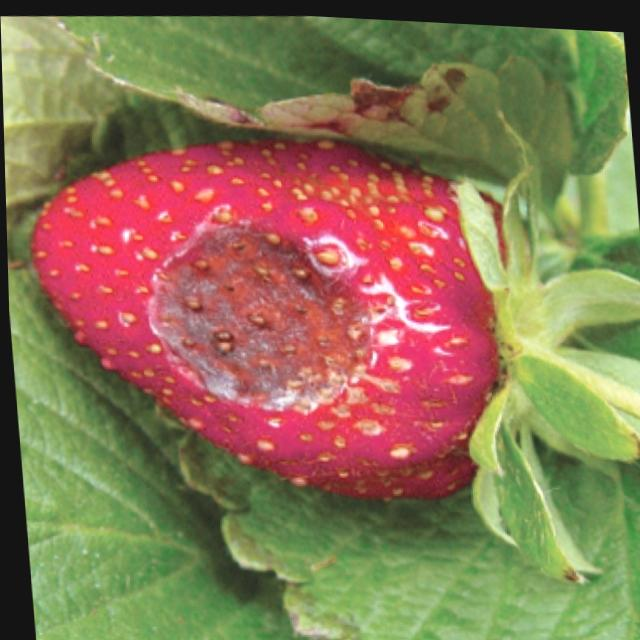Anthracnose Fruit Rot: (143, 204, 381, 420)
